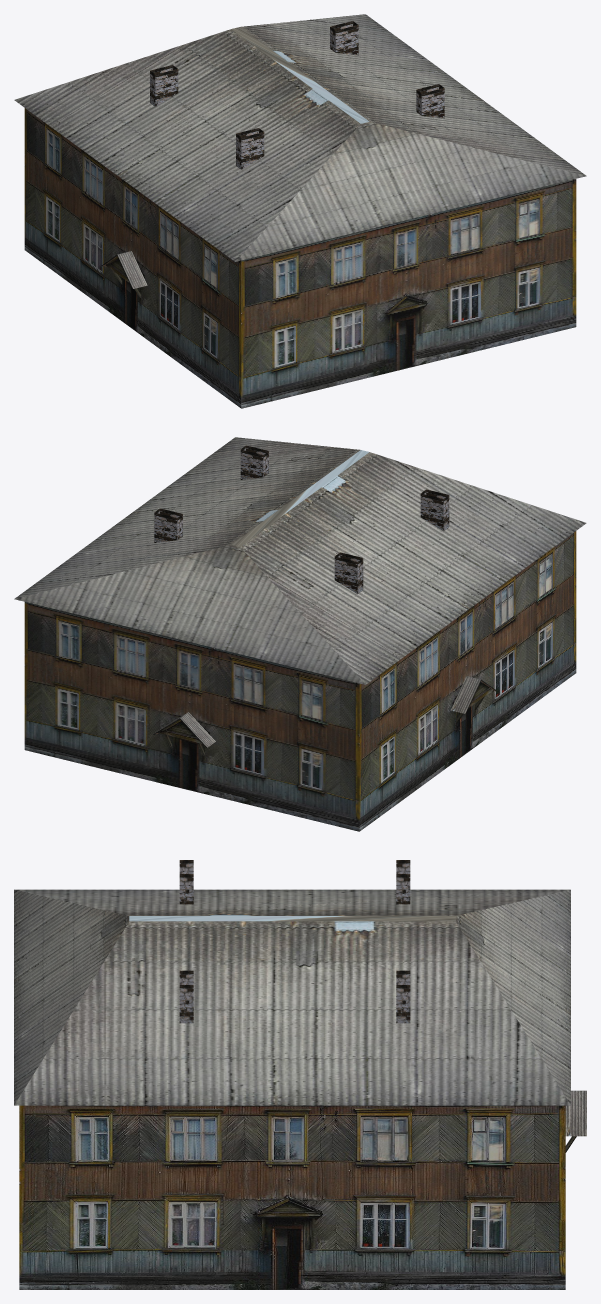
The model's file is original.obj.
The picture shows the model from 3 angles, top to bottom: view 1: azimuth 30°, elevation 25°; view 2: azimuth 150°, elevation 25°; view 3: azimuth 270°, elevation 25°; orthographic projection. The views are drawn at different scales.
Parts seen in each view (by area): view 1: Object002_Untitled; view 2: Object002_Untitled; view 3: Object002_Untitled.
Boxes of the visible parts, x1=… form: Object002_Untitled: x1=14, y1=14, x2=586, y2=408; Object002_Untitled: x1=14, y1=437, x2=586, y2=831; Object002_Untitled: x1=14, y1=860, x2=586, y2=1289.
Size of the model in its own units: 0.9954 by 0.5667 by 1.1.
